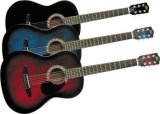guitar: (1, 50, 160, 114), (2, 22, 154, 64), (5, 1, 151, 33)
